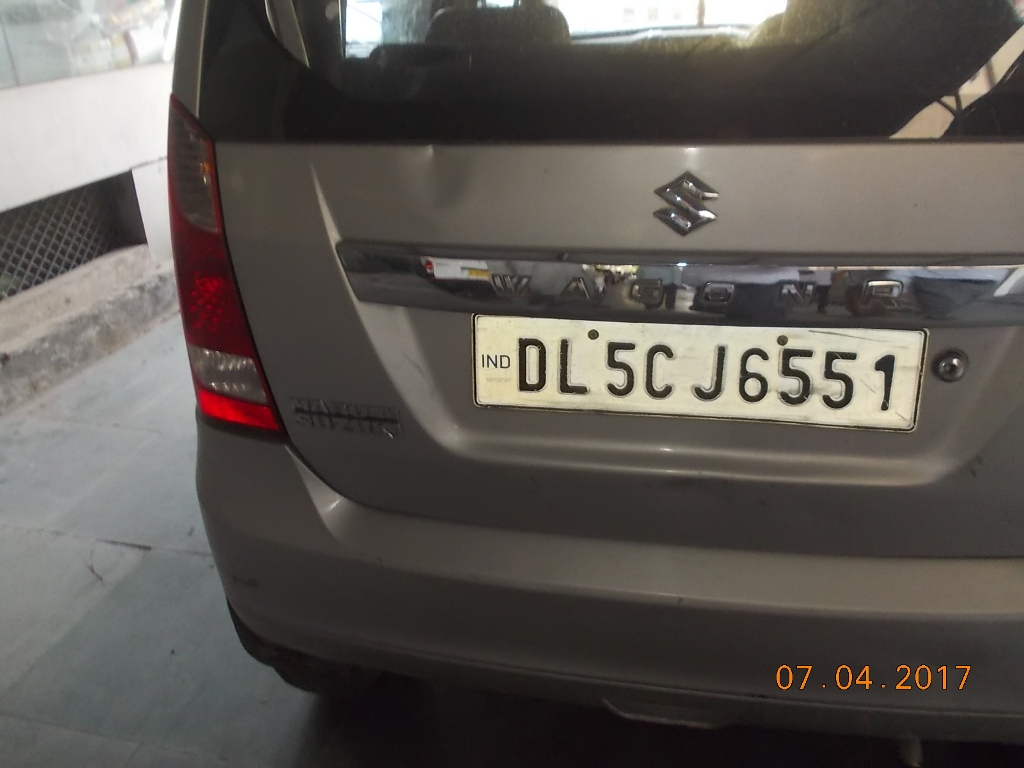Dent: (400, 146, 472, 231)
